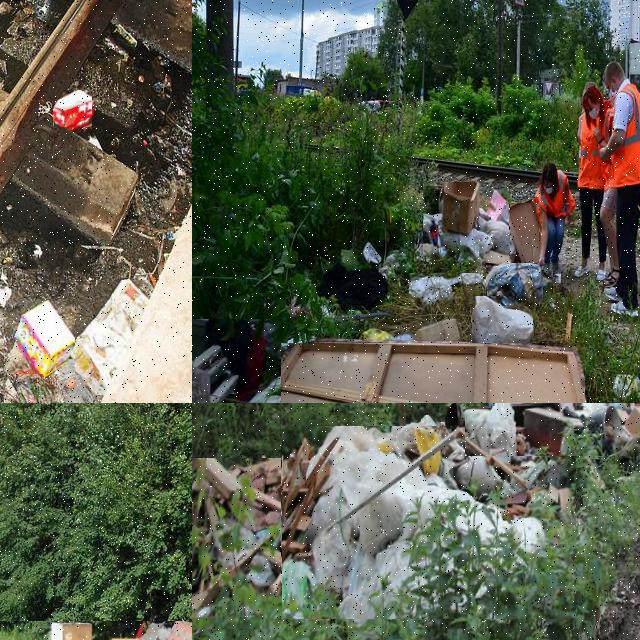lixeira: (282, 426, 578, 620), (282, 343, 587, 402), (192, 459, 284, 632), (465, 403, 639, 459), (76, 281, 152, 397), (192, 320, 285, 402), (423, 183, 510, 264), (14, 300, 77, 376), (322, 244, 387, 308), (473, 296, 535, 346), (486, 264, 554, 304), (410, 274, 484, 306), (365, 320, 460, 342), (511, 203, 541, 266), (54, 91, 94, 129)
